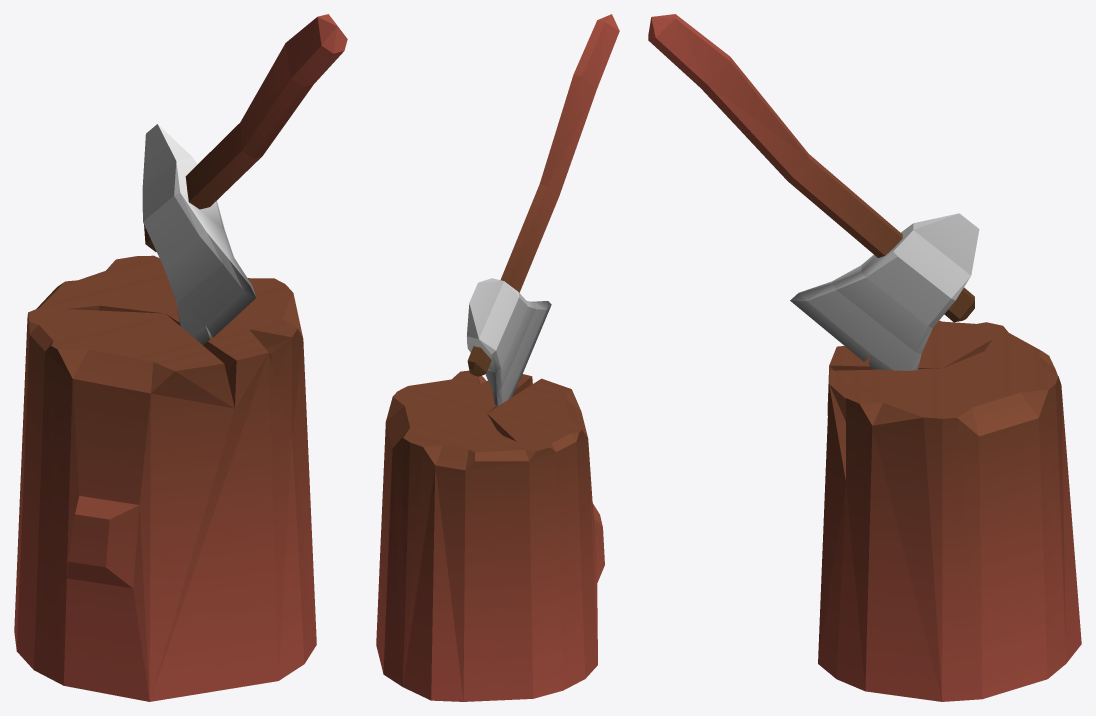
File: choppingblockwithhatchet.glb
3 renders of one model, left to right at view 1: azimuth 30°, elevation 25°; view 2: azimuth 150°, elevation 25°; view 3: azimuth 270°, elevation 25°, orthographic. The views are drawn at different scales.
Parts seen in each view (by area): view 1: ChoppingBlockWithHatchet; view 2: ChoppingBlockWithHatchet; view 3: ChoppingBlockWithHatchet.
Part boxes in pixels (x1,y1,x2,y2): ChoppingBlockWithHatchet: [14, 14, 347, 701]; ChoppingBlockWithHatchet: [376, 14, 619, 701]; ChoppingBlockWithHatchet: [648, 14, 1081, 701].
Size of the model in its own units: 0.474 by 1.26 by 0.7871.
1 material, 1 textured.
